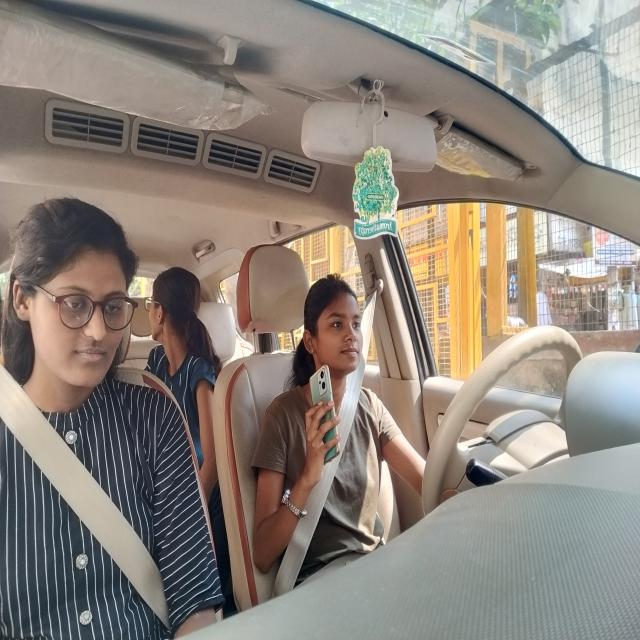mobile: (308, 362, 343, 467)
person: (8, 198, 136, 402), (303, 267, 364, 380), (145, 262, 202, 365)
